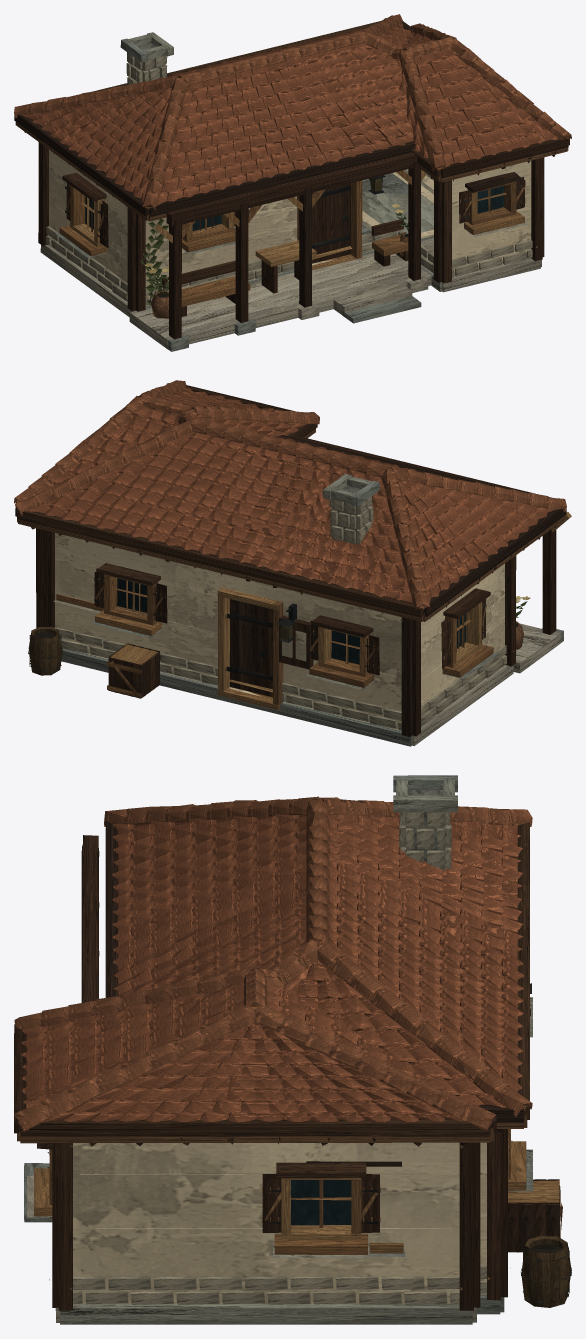
Rendered from 01_chief.glb.
The picture shows the model from 3 angles, top to bottom: view 1: azimuth 30°, elevation 25°; view 2: azimuth 150°, elevation 25°; view 3: azimuth 270°, elevation 25°; orthographic projection. The views are drawn at different scales.
Visible parts, largest first — view 1: 01_chief; view 2: 01_chief; view 3: 01_chief.
Boxes of the visible parts, x1,y1,x2,y2 form: 01_chief: [14, 14, 571, 351]; 01_chief: [14, 380, 571, 746]; 01_chief: [14, 775, 571, 1324].
Size of the model in its own units: 6.6 by 3.25 by 5.08.
Materials: 8 (8 with a texture image).
